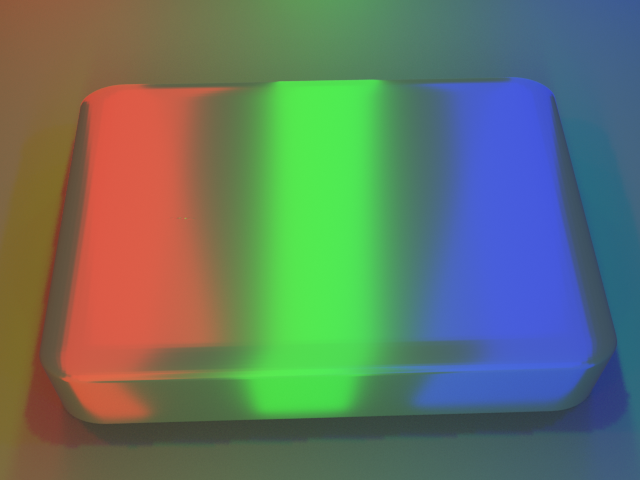scratch: (118, 190, 205, 241)
